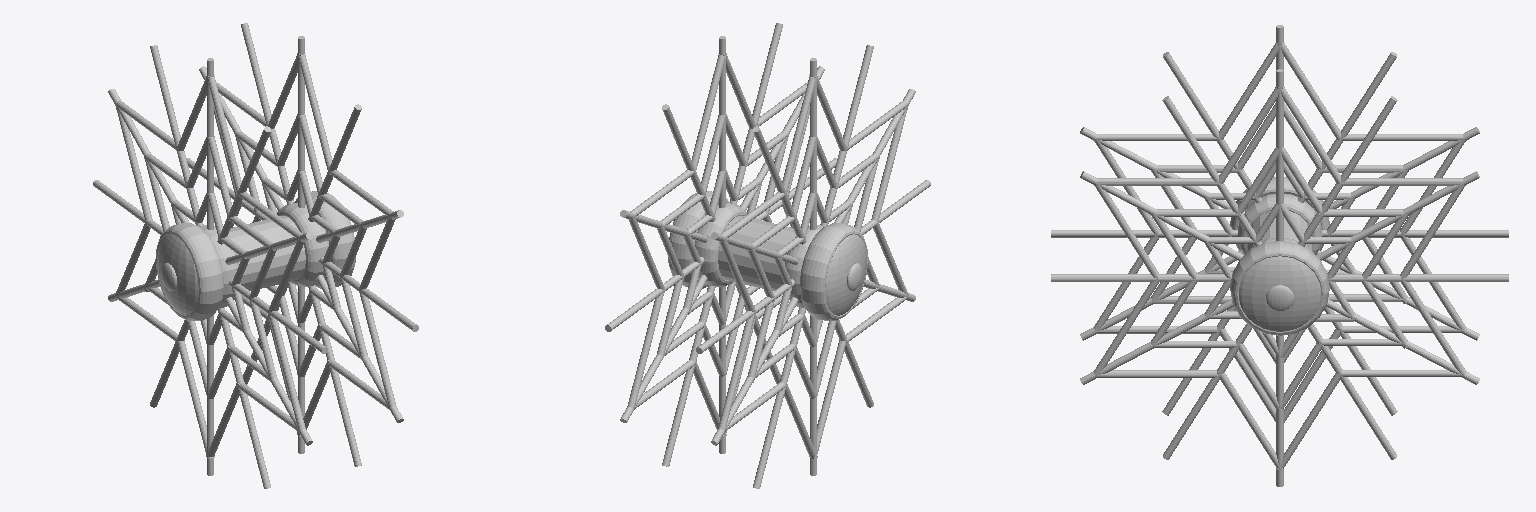
The model's file is ruedaFortunaEstructura.obj.
3 renders of one model, left to right at view 1: azimuth 30°, elevation 25°; view 2: azimuth 150°, elevation 25°; view 3: azimuth 270°, elevation 25°, orthographic.
Parts seen in each view (by area): view 1: pTorus4, pCylinder174, pCylinder115, pCylinder159, pSphere3, pCylinder114, pCylinder111, pCylinder158, pCylinder155, pTorus3, pCylinder112, pCylinder70 (+25 smaller); view 2: pTorus4, pCylinder174, pCylinder112, pCylinder156, pSphere3, pCylinder113, pCylinder111, pCylinder157, pCylinder155, pTorus3, pCylinder115, pCylinder70 (+26 smaller); view 3: pSphere1, pCylinder132, pTorus5, pCylinder156, pCylinder159, pCylinder158, pCylinder157, pCylinder70, pCylinder155, pCylinder112, pCylinder115, pCylinder113 (+28 smaller).
Part boxes in pixels (bbox=[...]): pTorus4: bbox=[156, 223, 223, 320]; pCylinder174: bbox=[228, 215, 305, 290]; pCylinder115: bbox=[150, 45, 270, 488]; pCylinder159: bbox=[241, 23, 361, 466]; pSphere3: bbox=[157, 234, 198, 315]; pCylinder114: bbox=[108, 89, 312, 445]; pCylinder111: bbox=[207, 58, 213, 475]; pCylinder158: bbox=[199, 66, 403, 422]; pCylinder155: bbox=[298, 36, 304, 453]; pTorus3: bbox=[277, 203, 328, 286]; pCylinder112: bbox=[150, 126, 270, 407]; pCylinder70: bbox=[93, 180, 327, 353]; pTorus4: bbox=[800, 223, 867, 320]; pCylinder174: bbox=[718, 215, 795, 290]; pCylinder112: bbox=[753, 45, 873, 488]; pCylinder156: bbox=[662, 23, 782, 466]; pSphere3: bbox=[825, 234, 866, 315]; pCylinder113: bbox=[711, 89, 915, 445]; pCylinder111: bbox=[810, 58, 816, 475]; pCylinder157: bbox=[620, 66, 824, 422]; pCylinder155: bbox=[719, 36, 725, 453]; pTorus3: bbox=[695, 203, 746, 286]; pCylinder115: bbox=[753, 126, 873, 407]; pCylinder70: bbox=[696, 180, 930, 353]; pSphere1: bbox=[1239, 256, 1320, 331]; pCylinder132: bbox=[1051, 274, 1508, 281]; pTorus5: bbox=[1230, 241, 1329, 335]; pCylinder156: bbox=[1162, 96, 1396, 459]; pCylinder159: bbox=[1163, 96, 1397, 459]; pCylinder158: bbox=[1080, 171, 1479, 384]; pCylinder157: bbox=[1080, 171, 1479, 384]; pCylinder70: bbox=[1051, 230, 1508, 237]; pCylinder155: bbox=[1276, 69, 1283, 486]; pCylinder112: bbox=[1163, 52, 1397, 415]; pCylinder115: bbox=[1162, 52, 1396, 415]; pCylinder113: bbox=[1080, 127, 1479, 340].
Bounding box in the file's own units: 22 × 48 × 48.